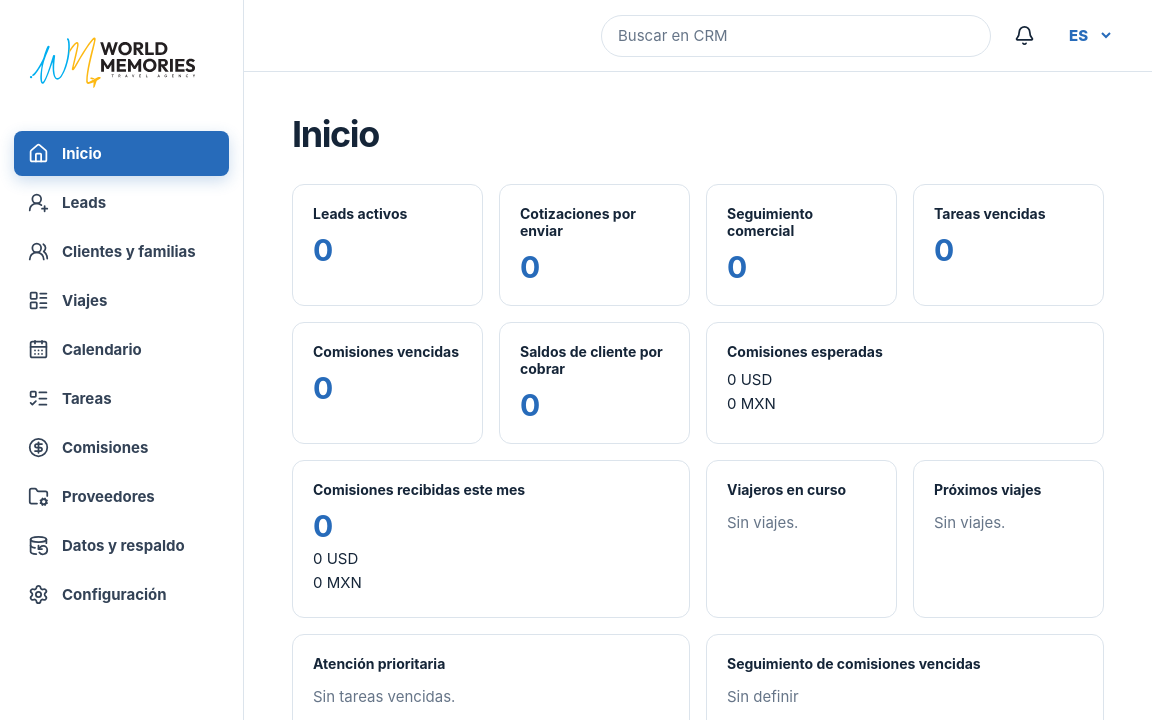
Test case: application shell › exposes Spanish navigation, a language switcher, and an accessible primary action
Expected: the navigation bar named "Navegación principal" is shown, x1=14 y1=131 x2=229 y2=617
Expected: the heading "Inicio" is shown, x1=292 y1=116 x2=379 y2=154
Click the button "Leads" at (122, 203), box x1=14 y1=180 x2=229 y2=225
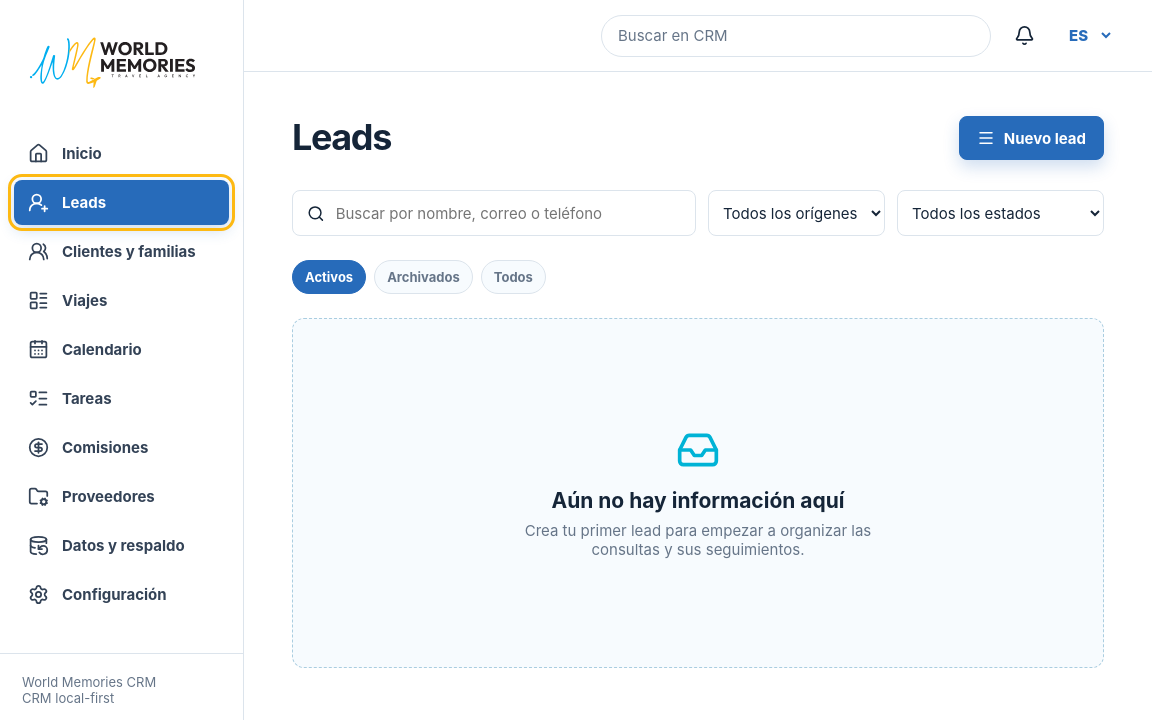
Result: the heading "Leads" is shown at x1=292 y1=119 x2=391 y2=157
Result: the button "Nuevo lead" is shown at x1=959 y1=116 x2=1104 y2=160
Select "EN" in the dropdown named "Idioma" at (1086, 36), box x1=1057 y1=17 x2=1114 y2=54
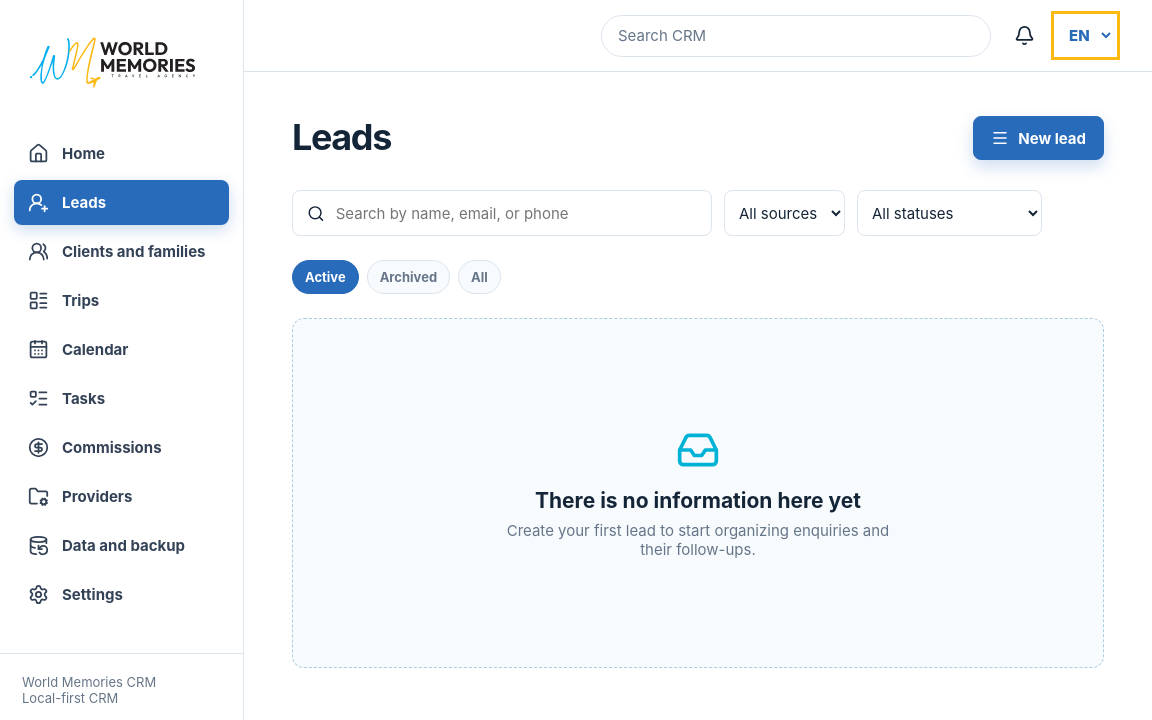
Result: the heading "Leads" is shown at x1=292 y1=119 x2=391 y2=157
Result: the button "New lead" is shown at x1=973 y1=116 x2=1104 y2=160
